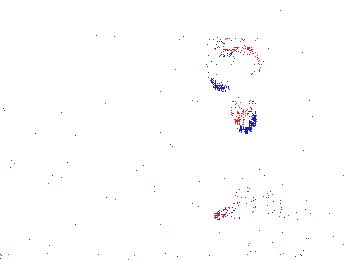flame jellyfish: (204, 44, 261, 134), (216, 168, 288, 226), (278, 172, 346, 231)
